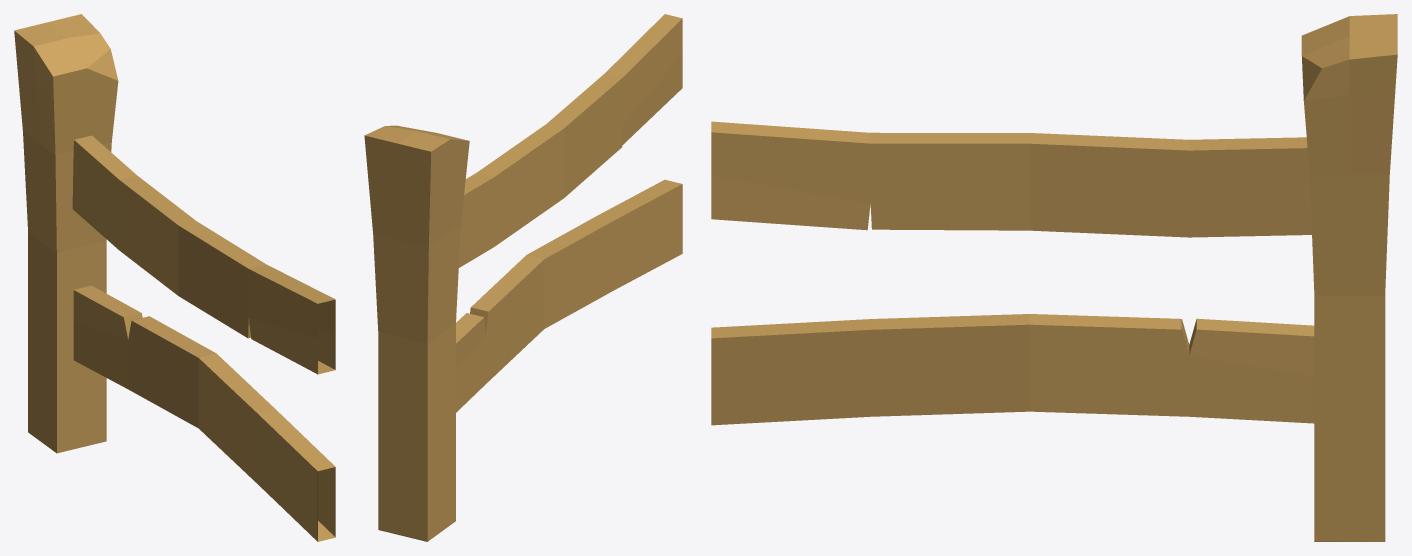
Rendered from Fence_01.fbx.
The picture shows the model from 3 angles, left to right: view 1: azimuth 30°, elevation 25°; view 2: azimuth 150°, elevation 25°; view 3: azimuth 270°, elevation 25°; orthographic projection. The views are drawn at different scales.
Parts seen in each view (by area): view 1: Cube.017; view 2: Cube.017; view 3: Cube.017.
Part boxes in pixels (<box>): Cube.017: <box>14,14,335,541</box>; Cube.017: <box>364,14,682,541</box>; Cube.017: <box>711,14,1397,541</box>.
Bounding box in the file's own units: 15 × 85 × 107.
1 material, 1 textured.
